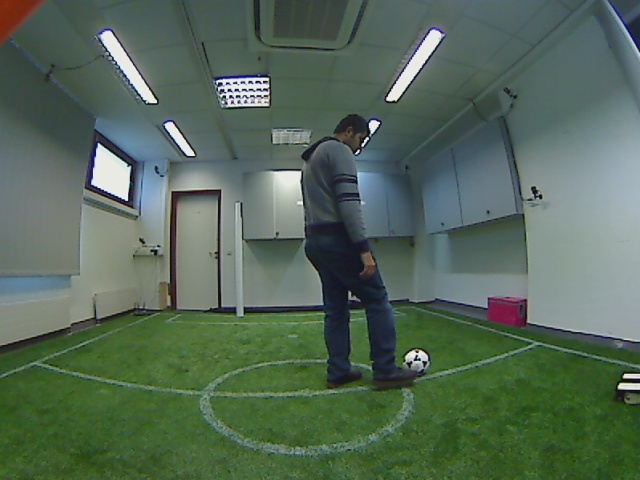ball: (397, 344, 433, 379)
